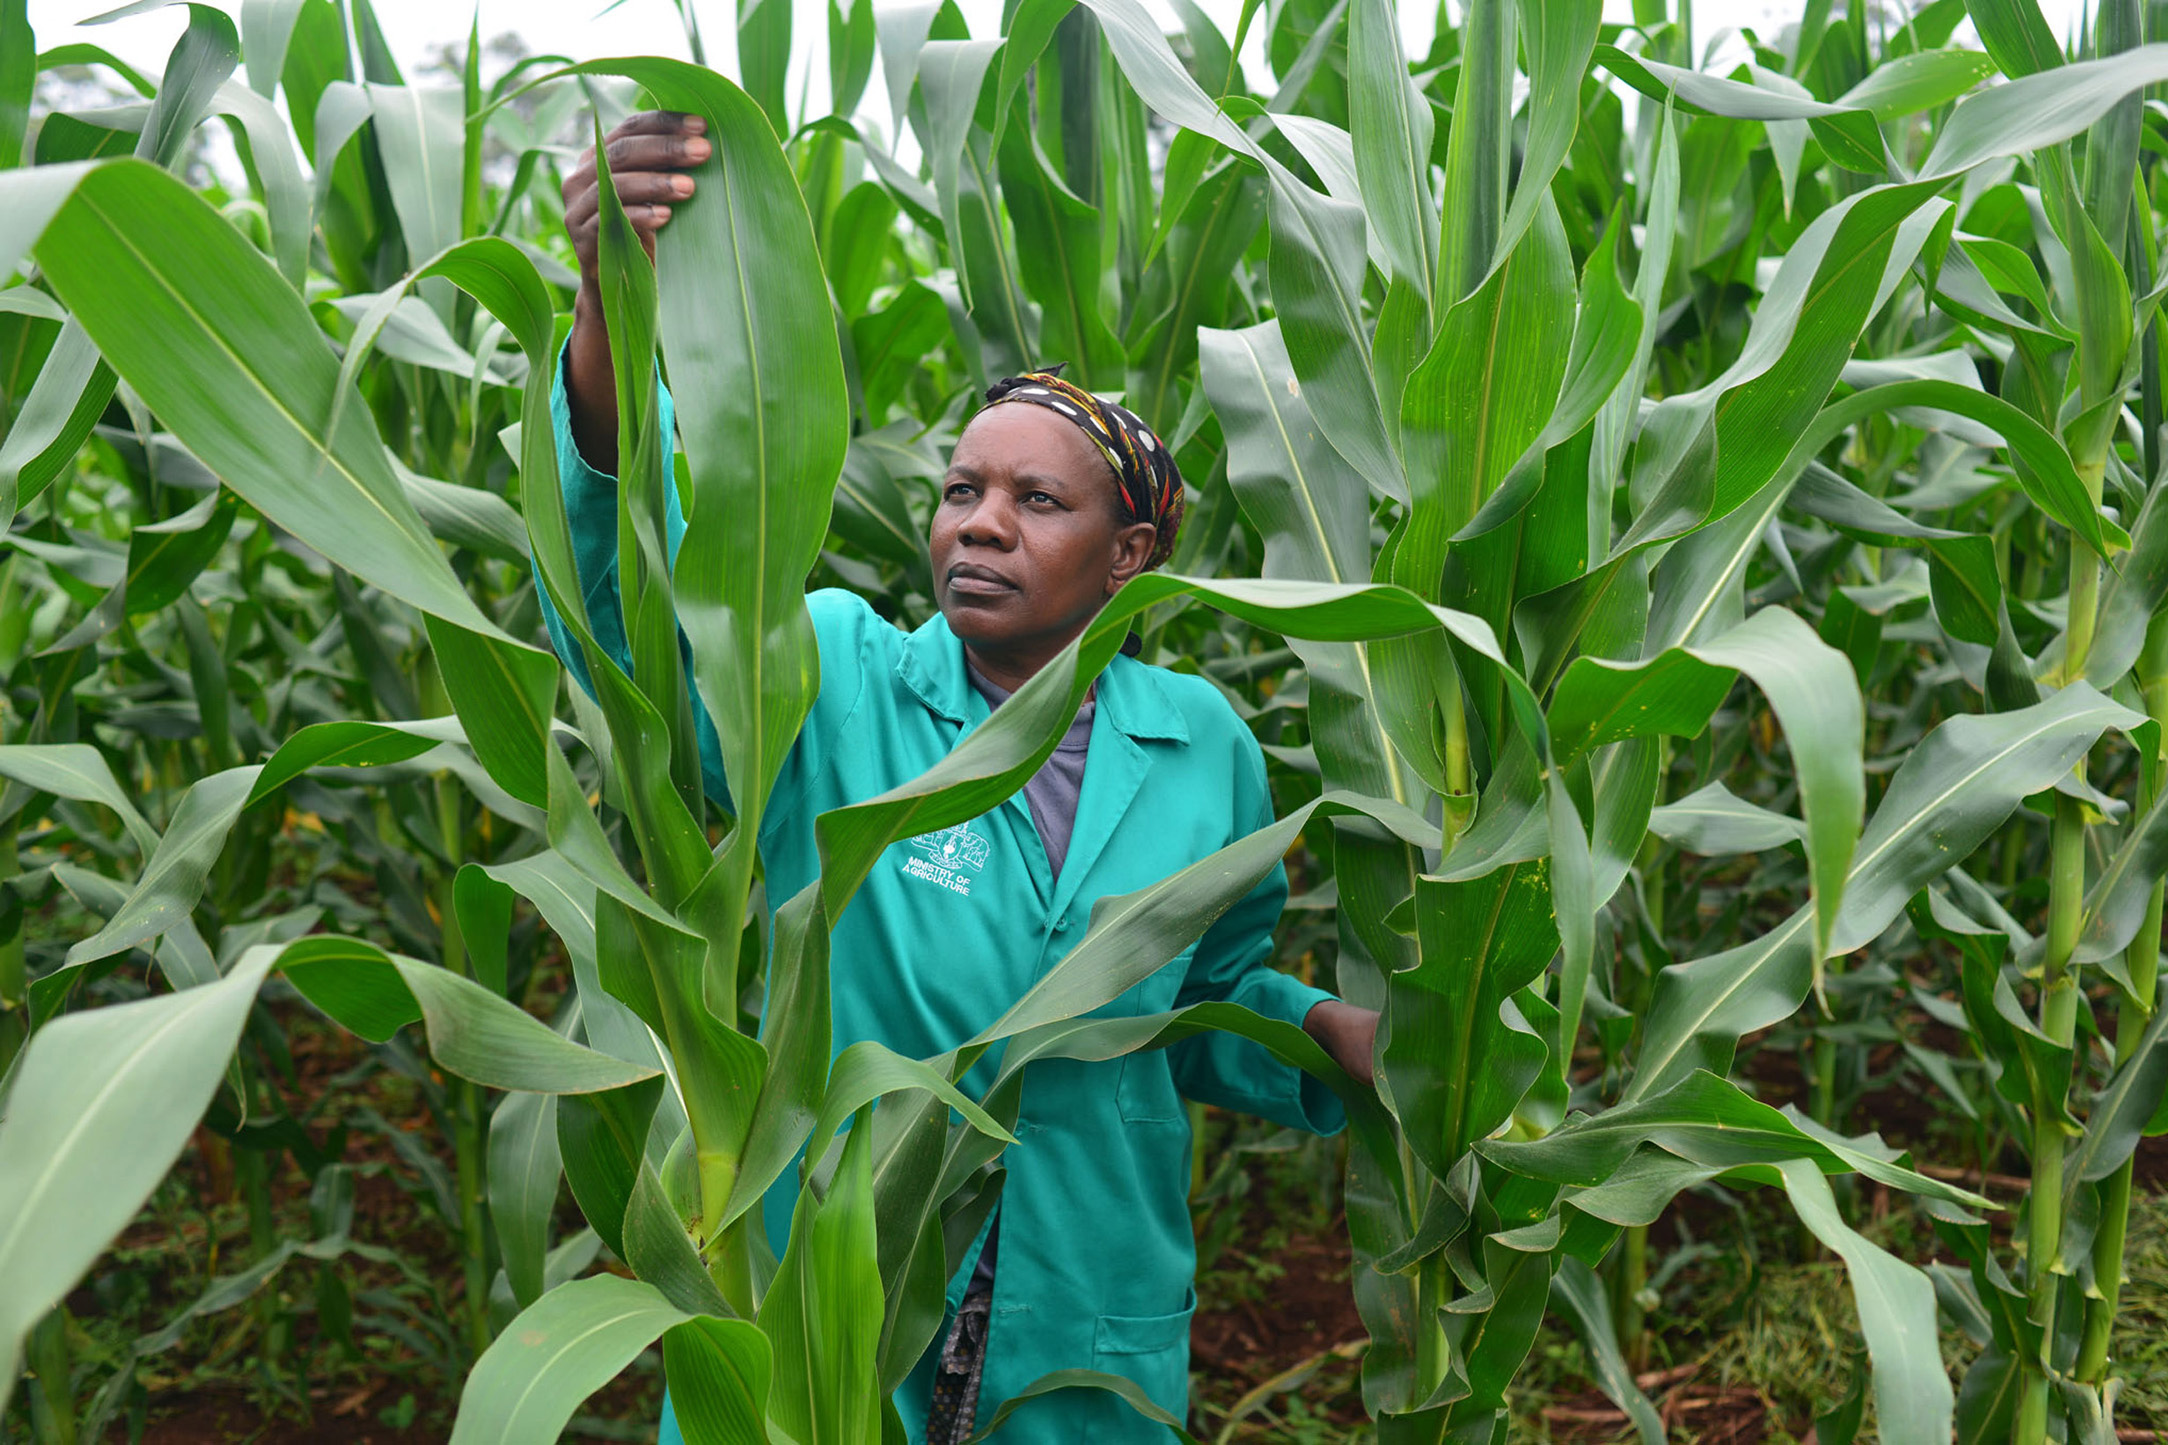human: (484, 117, 1354, 1445)
